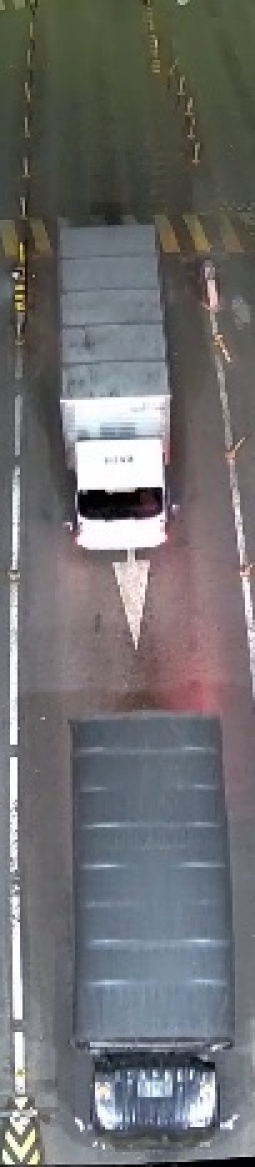truck: (51, 699, 247, 1149), (48, 214, 195, 567)
